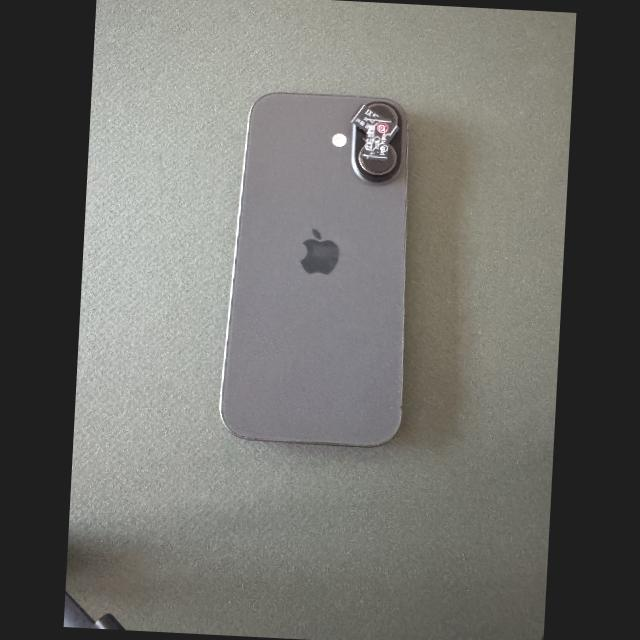lens: (359, 146, 394, 174), (368, 104, 394, 122)
phone: (220, 93, 409, 447)
sticker: (362, 116, 392, 161), (350, 105, 386, 131)
